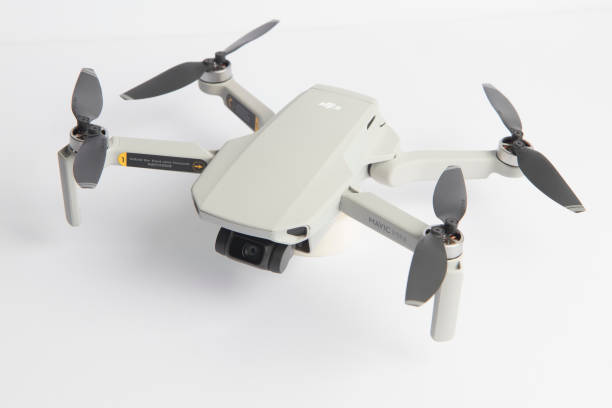Drone: (54, 10, 588, 345)
